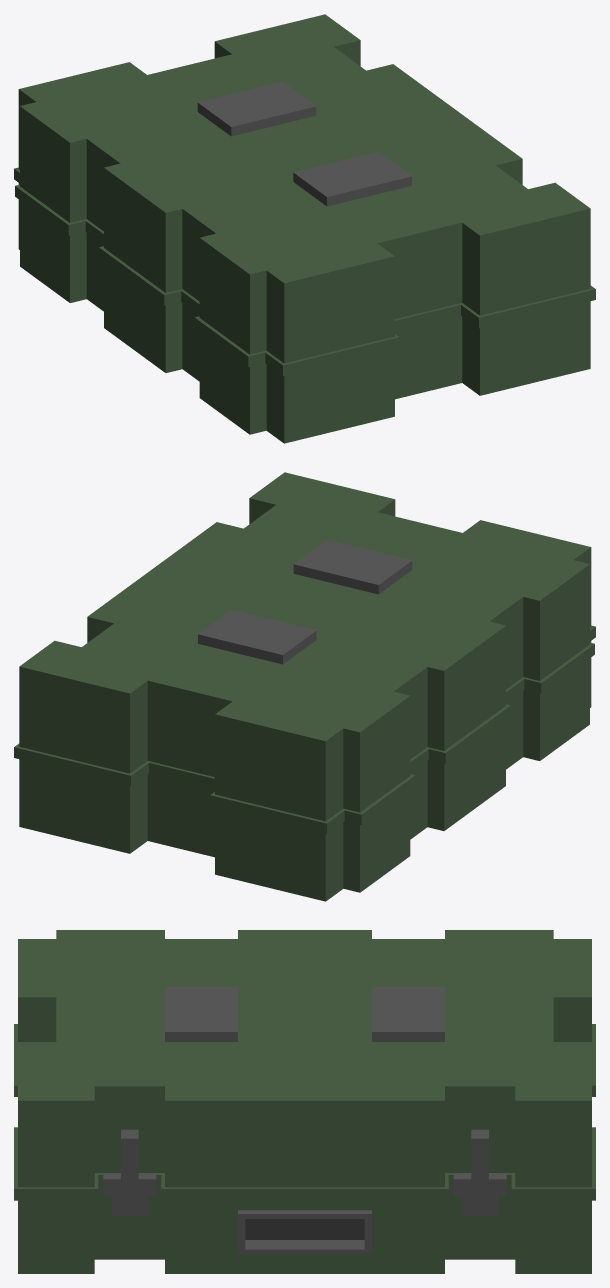
File: suitCase.fbx
3 renders of one model, top to bottom at view 1: azimuth 30°, elevation 25°; view 2: azimuth 150°, elevation 25°; view 3: azimuth 270°, elevation 25°, orthographic. The views are drawn at different scales.
Parts seen in each view (by area): view 1: suitCase_top, suitCase_bottom; view 2: suitCase_top, suitCase_bottom; view 3: suitCase_top, suitCase_bottom.
Boxes of the visible parts, <box> form: suitCase_top: <box>18,14,590,363</box>; suitCase_bottom: <box>14,167,595,443</box>; suitCase_top: <box>19,472,591,821</box>; suitCase_bottom: <box>14,625,595,901</box>; suitCase_top: <box>18,930,591,1204</box>; suitCase_bottom: <box>14,1024,595,1273</box>.
Bounding box in the file's own units: 54.41 × 26.47 × 76.05.
